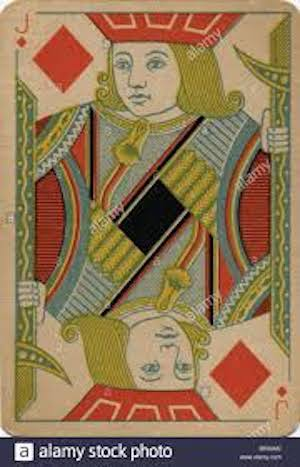JackOfDiamonds: (1, 2, 299, 446)
